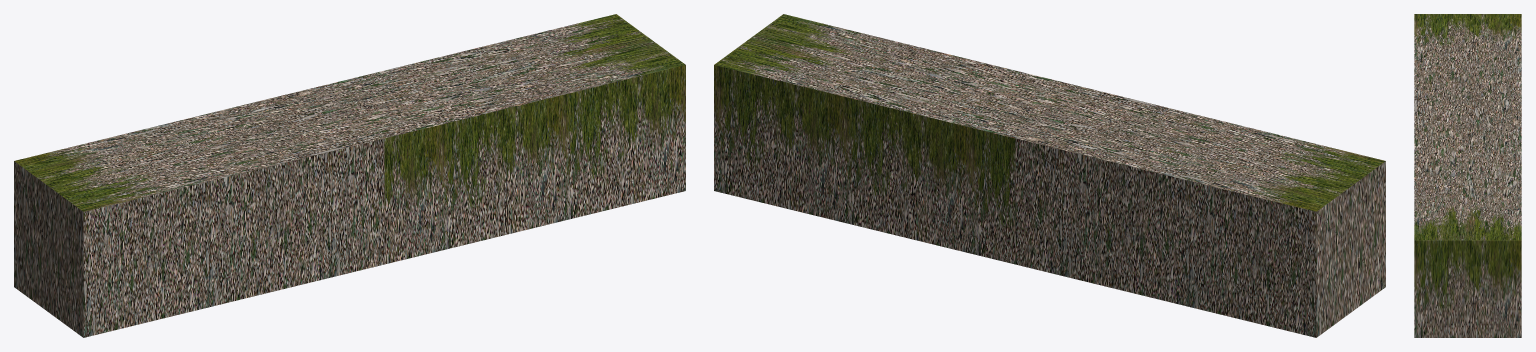
The model's file is RoadSeg.fbx.
3 renders of one model, left to right at view 1: azimuth 30°, elevation 25°; view 2: azimuth 150°, elevation 25°; view 3: azimuth 270°, elevation 25°, orthographic. The views are drawn at different scales.
Visible parts, largest first — view 1: RoadSeg_uv; view 2: RoadSeg_uv; view 3: RoadSeg_uv.
Part boxes in pixels (box(x1,y1,x2,y2)): RoadSeg_uv: box(14, 14, 685, 337); RoadSeg_uv: box(714, 14, 1385, 337); RoadSeg_uv: box(1414, 14, 1521, 337).
Bounding box in the file's own units: 1000 × 200 × 200.
